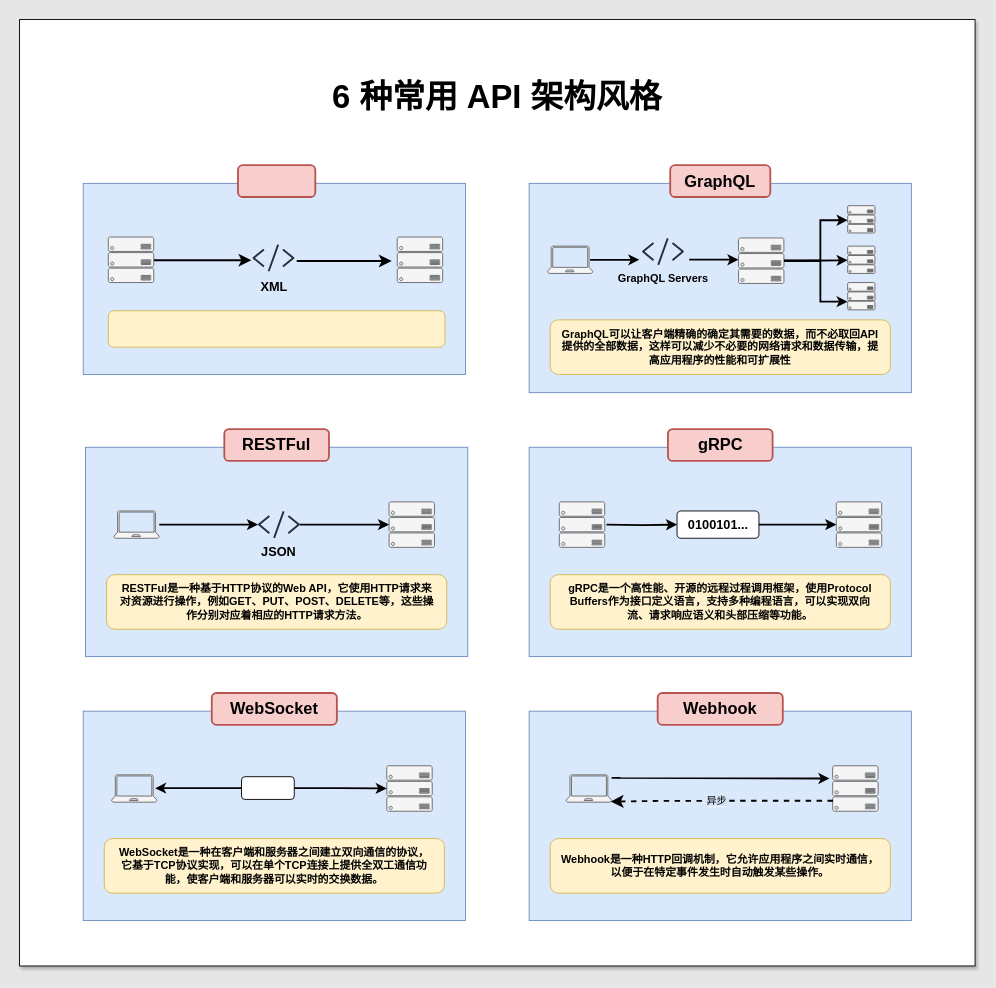
The diagram is 996 pixels wide and 988 high, and some of its shapes have lost their labels. The shapes that lost their labels are listed below. From the top down, each one's centre as x and y in pixels, then its label:
At [276,180]: "SOAP".
At [276,328]: "一种基于XML的协议，一条 SOAP 消息就是一个普通的 XML 文档".
At [267,787]: "push".
